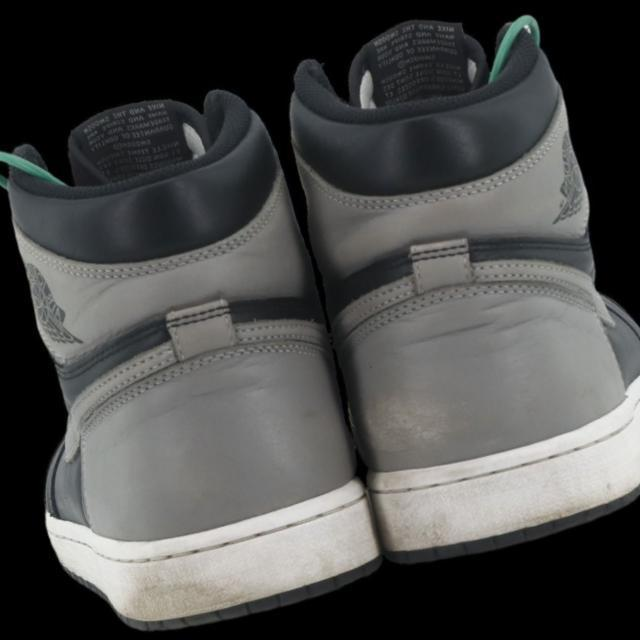nike original jordan 1: (0, 63, 395, 640), (254, 0, 640, 581)
